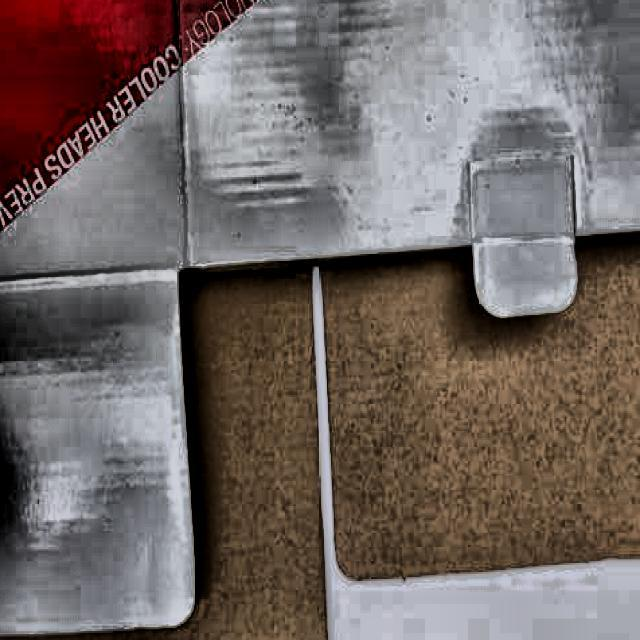cardboard: (0, 265, 331, 640), (317, 228, 640, 586)
